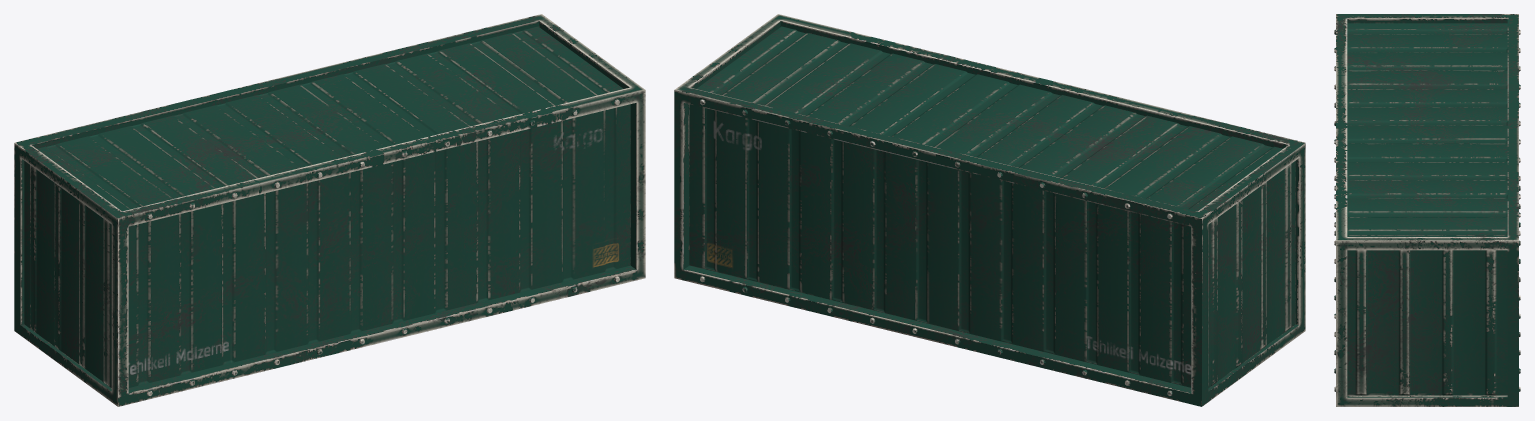
The model's file is Factory_Container1.fbx.
3 views of the same model, side by side, from view 1: azimuth 30°, elevation 25°; view 2: azimuth 150°, elevation 25°; view 3: azimuth 270°, elevation 25° (orthographic). The views are drawn at different scales.
Parts seen in each view (by area): view 1: Cube.061; view 2: Cube.061; view 3: Cube.061.
Boxes of the visible parts, <box> form: Cube.061: <box>14,14,645,406</box>; Cube.061: <box>674,14,1305,406</box>; Cube.061: <box>1334,14,1520,406</box>.
Bounding box in the file's own units: 742 × 253 × 258.
Materials: 1 (1 with a texture image).
